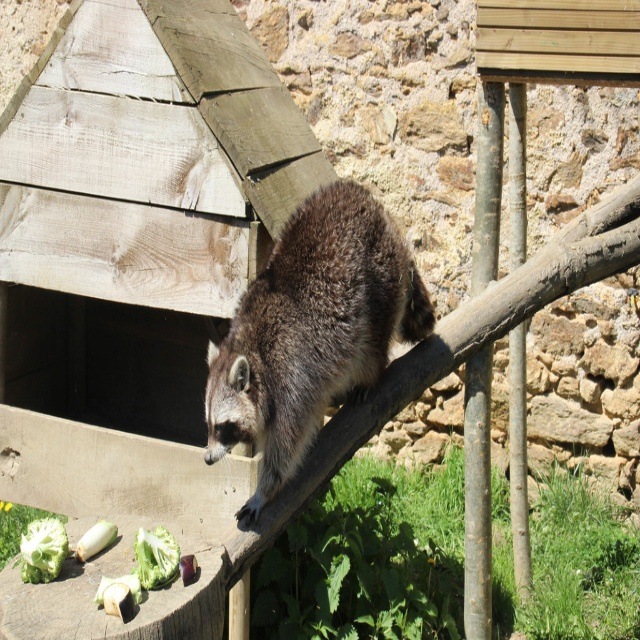Raccoon: (204, 175, 434, 519)
